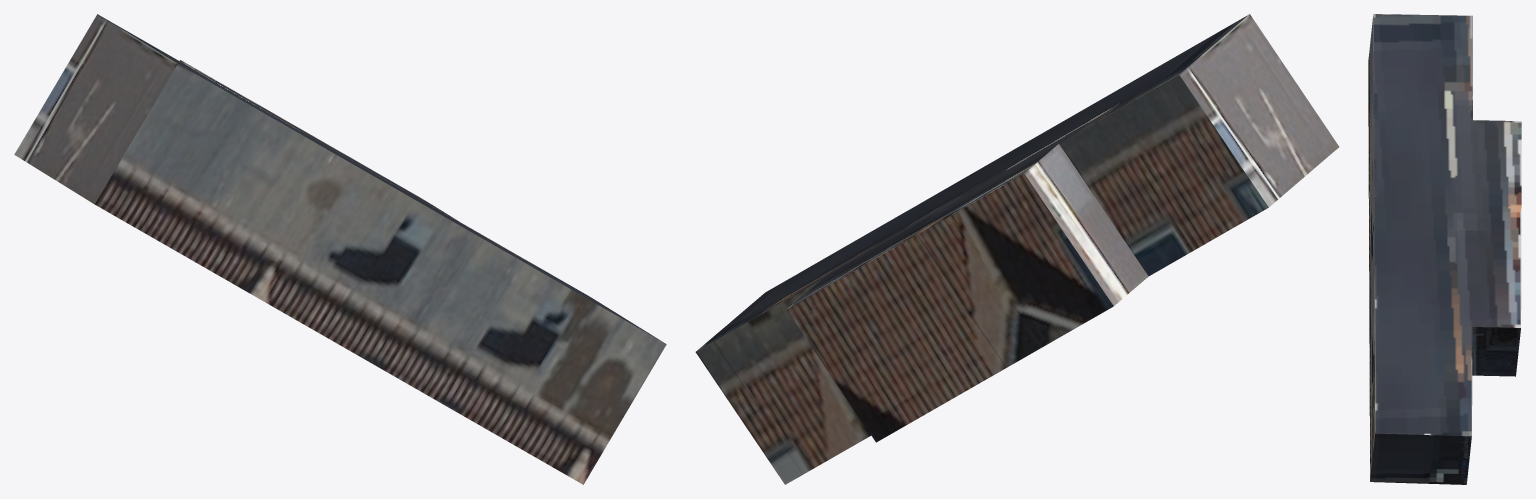
3 views of the same model, side by side, from view 1: azimuth 30°, elevation 25°; view 2: azimuth 150°, elevation 25°; view 3: azimuth 270°, elevation 25° (orthographic). The views are drawn at different scales.
Visible parts, largest first — view 1: BAG_0599100100019942 (×2); view 2: BAG_0599100100019942 (×3); view 3: BAG_0599100100019942 (×3).
Boxes of the visible parts, left/top/right/bottom form: BAG_0599100100019942 (×2): left=14, top=14, right=666, bottom=484; BAG_0599100100019942 (×3): left=695, top=14, right=1339, bottom=484; BAG_0599100100019942 (×3): left=1368, top=14, right=1521, bottom=484.
Bounding box in the file's own units: 11.09 × 9.54 × 3.87.
1 material, 1 textured.
